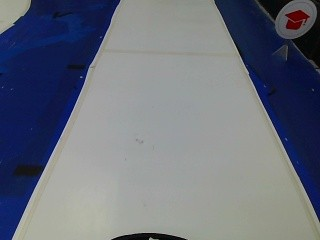school: (274, 3, 318, 38)
